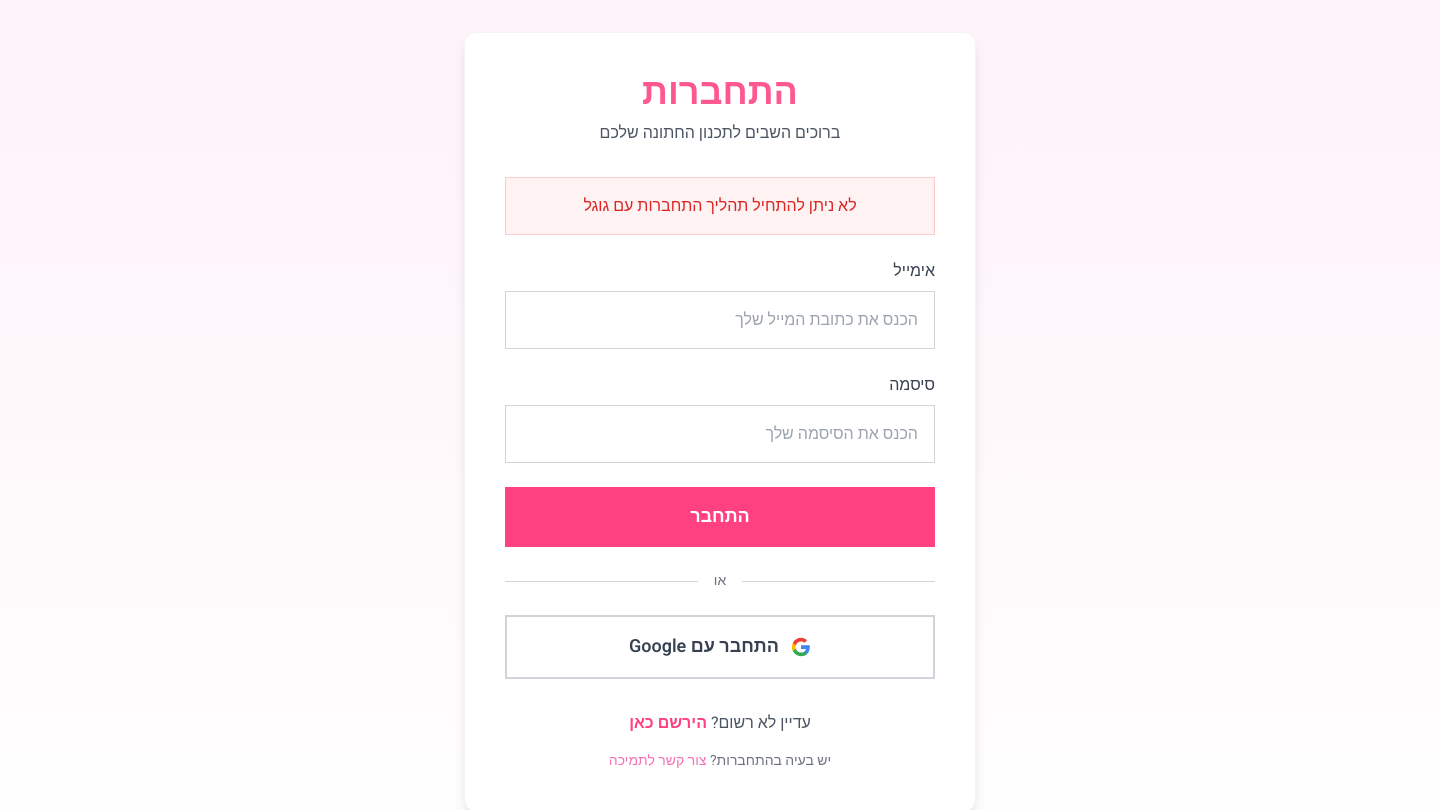
Scenario: Login Page › handles network errors gracefully
Type "test@example.com" into the field labelled "אימייל" at [720, 320], box [505, 291, 935, 349]
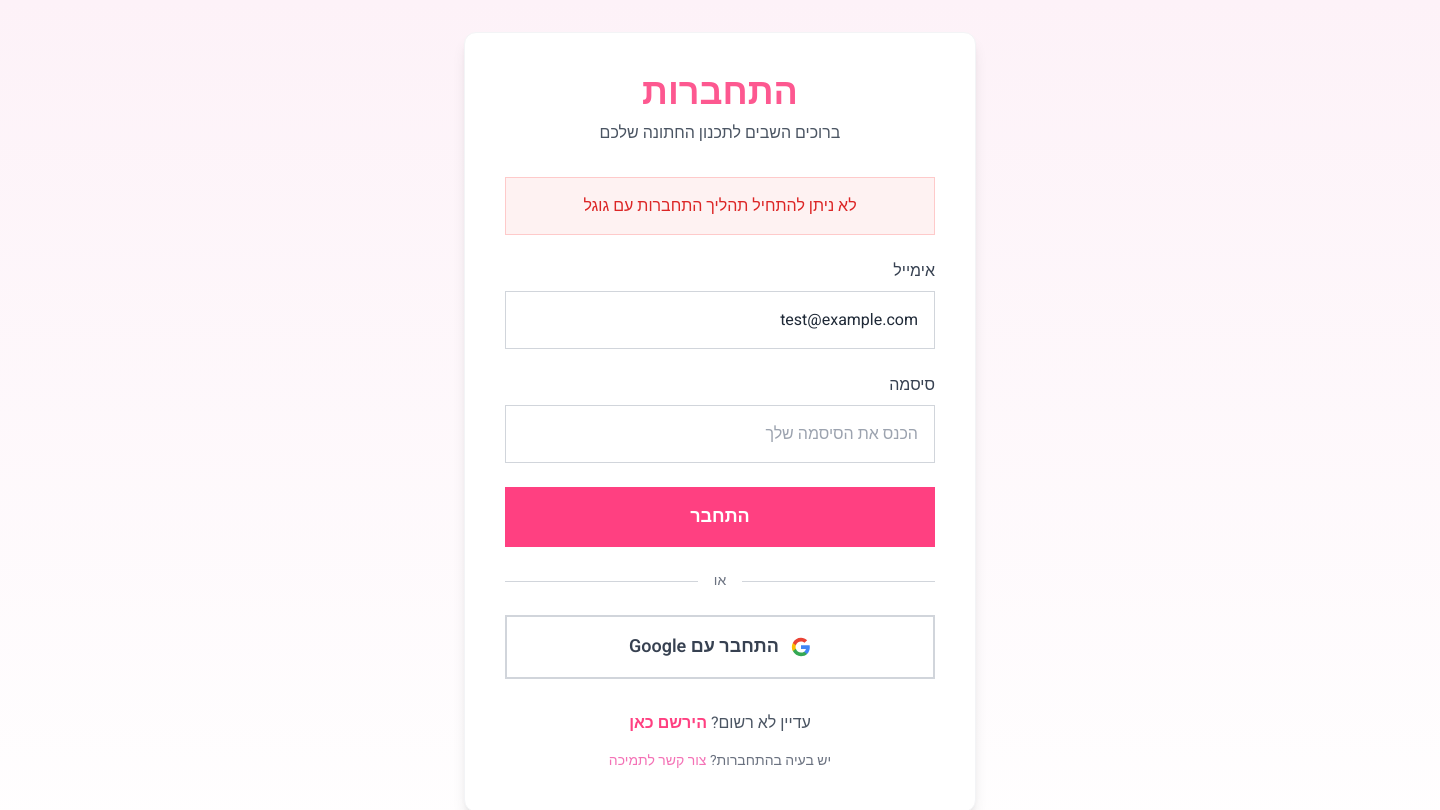
Type "password123" into the password field labelled "סיסמה" at [720, 434], box [505, 405, 935, 463]
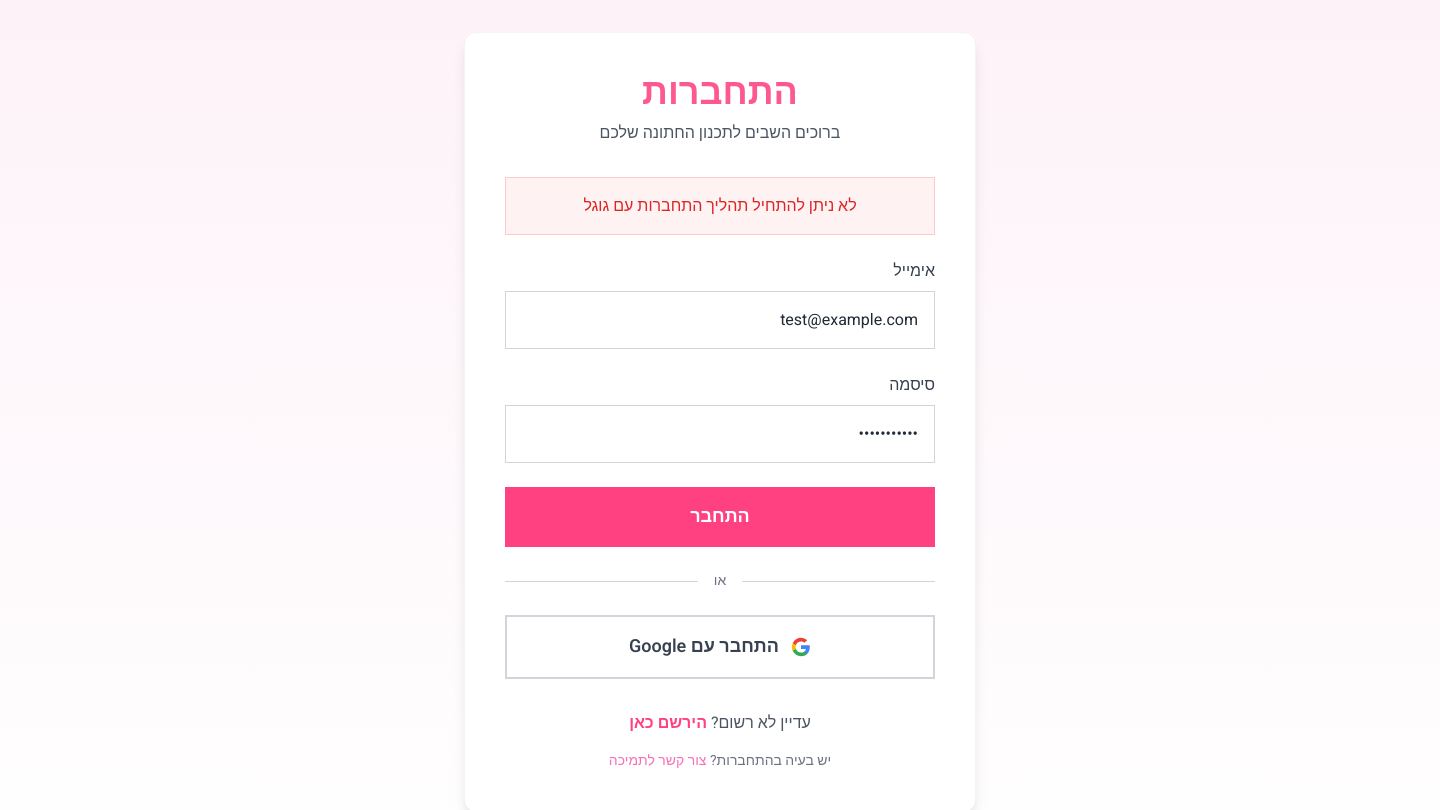
Click the button "התחבר" at [720, 517], box [505, 487, 935, 547]
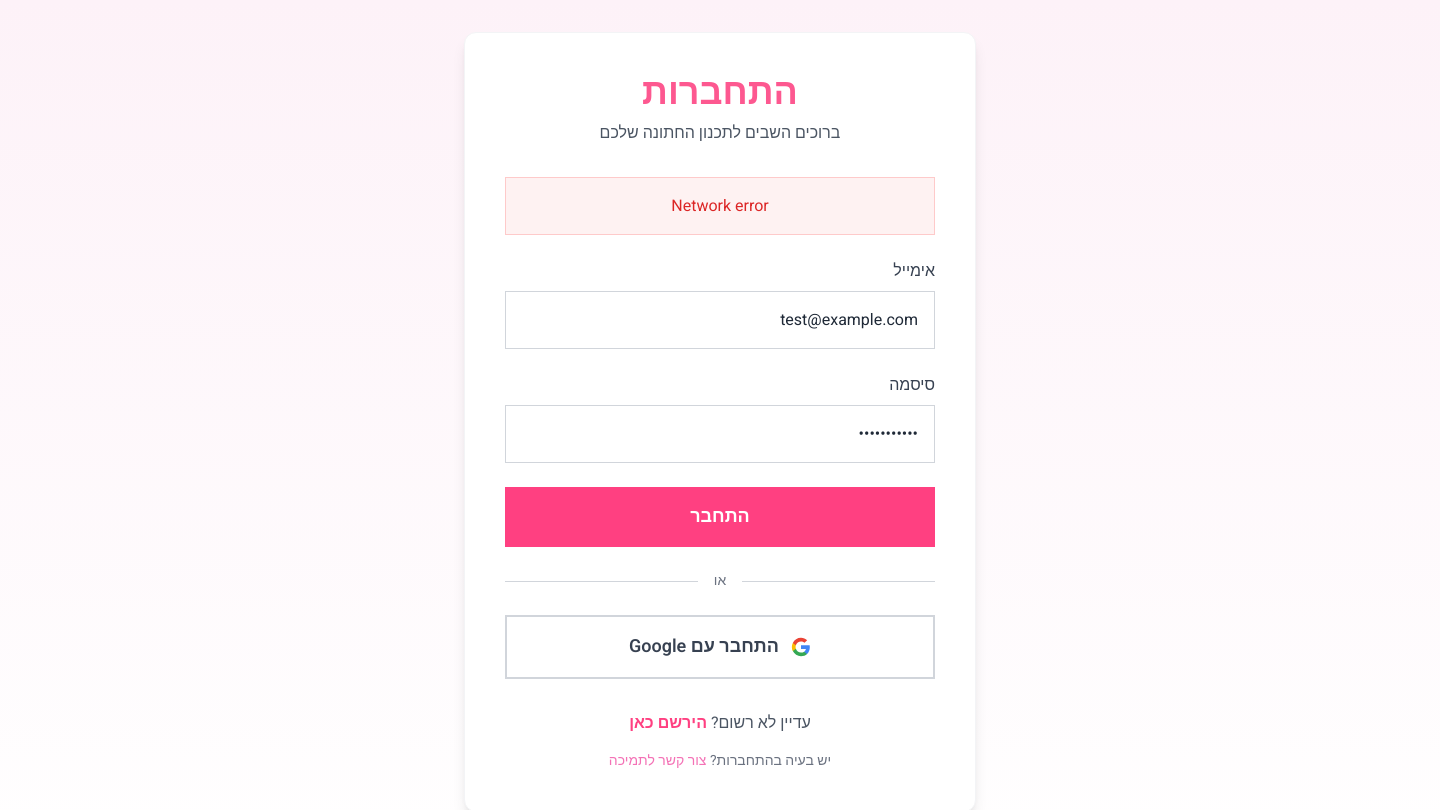
expect the text "Network error" is shown: met, box [505, 177, 935, 235]
